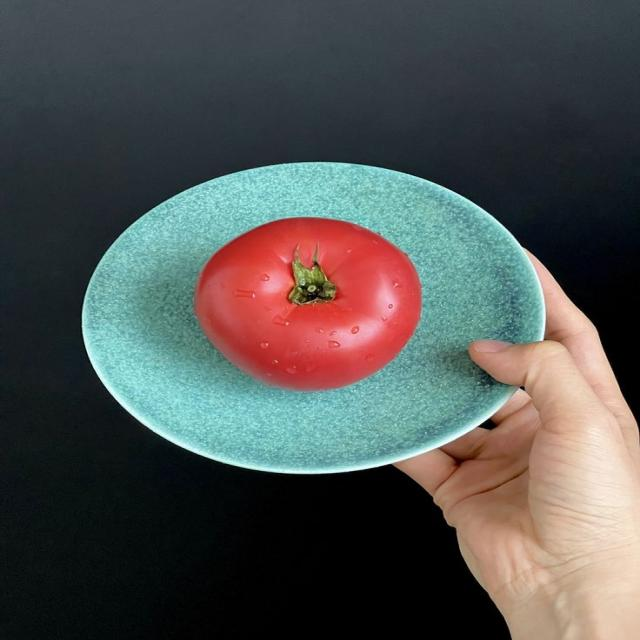tomato: (195, 218, 421, 390)
